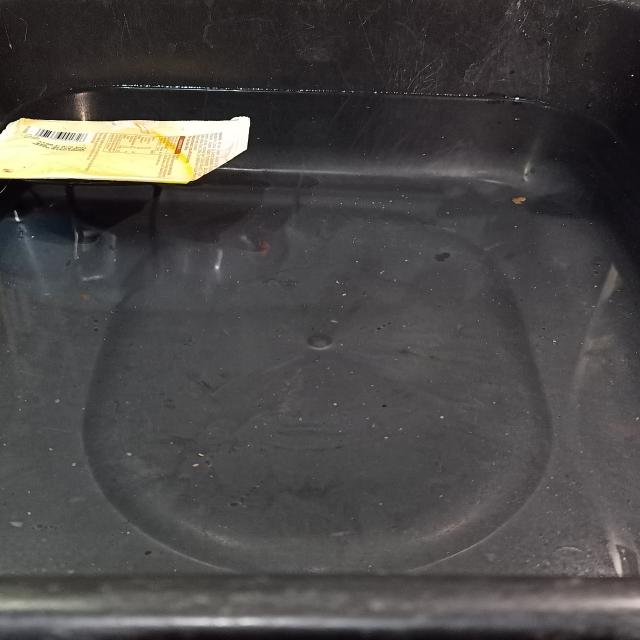Plastic Wrapper: (0, 117, 250, 184)
